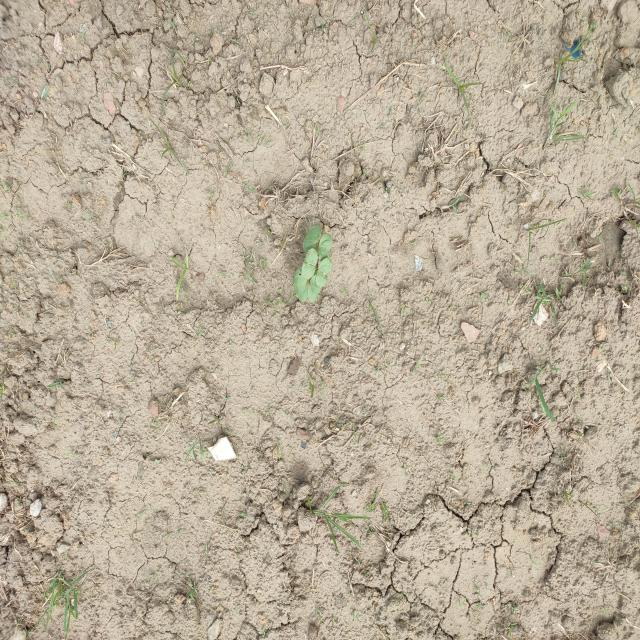seedling: (303, 224, 322, 252), (301, 249, 318, 279), (294, 268, 308, 302), (316, 258, 332, 287), (318, 233, 333, 261), (308, 274, 321, 302)
